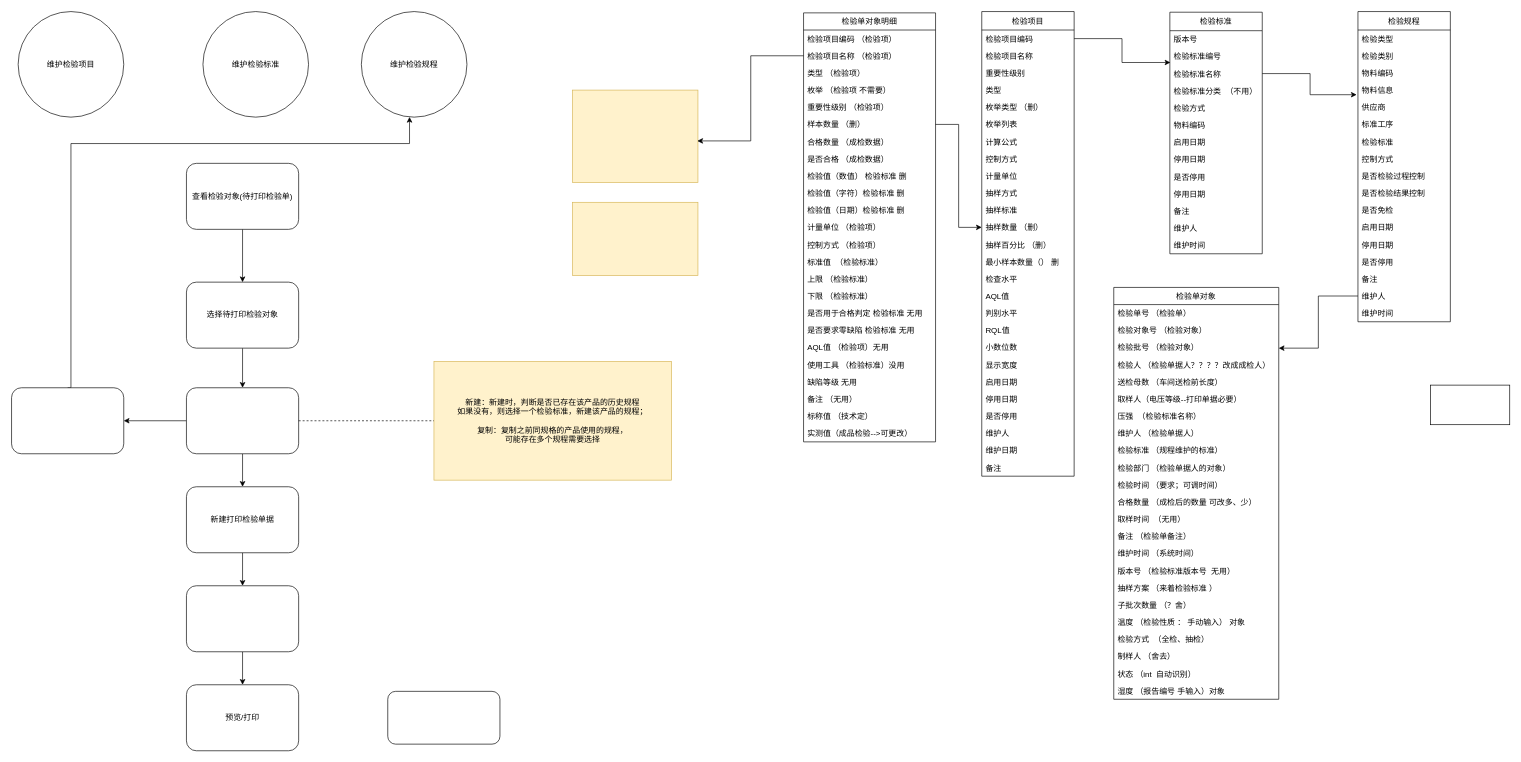
Image size: 1521x762. Some labels were removed from this diagram. The centre of each missing label's shape, as x and y in pixels:
修改打印产品数据（标准值、实测值、米数）: the point at 242,618
成品数据: the point at 1470,404
控制方式：上下线、区间、等 怎么做判断？: the point at 635,239
新建: the point at 67,420
新建/复制规程: the point at 242,420
退回？：生产入库通知单---> 检验对象 --> 检验单 （修改米数、检验数据等）？？: the point at 443,717
长度要求：三种以上的文字支持，notes 打印要求：俄文、葡萄牙等有些字符不显示或打印有问题: the point at 635,135
